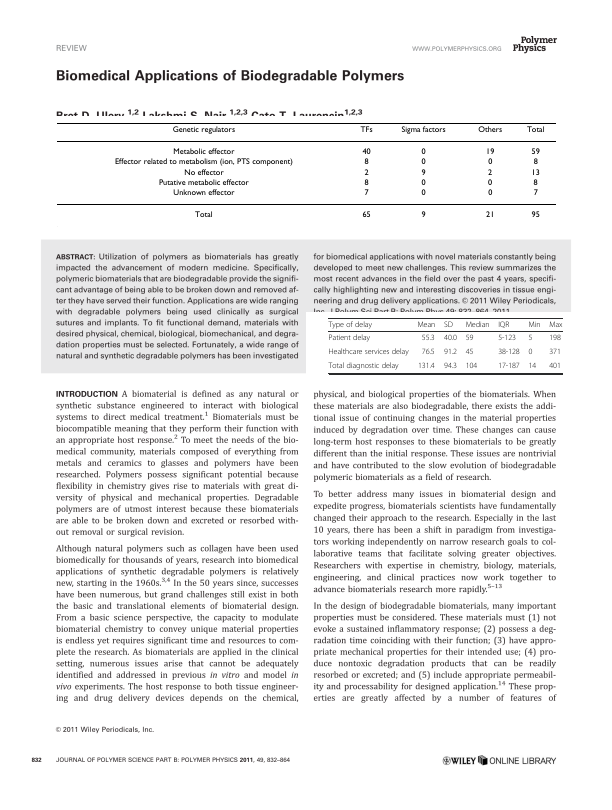borderless: (55, 121, 557, 228), (327, 317, 562, 373)
cell: (113, 158, 293, 168), (157, 178, 249, 188), (328, 348, 410, 358), (328, 362, 400, 372), (171, 125, 236, 135), (172, 148, 235, 157), (172, 189, 235, 198), (400, 125, 446, 135), (328, 334, 371, 344), (183, 168, 224, 178), (328, 321, 373, 330), (477, 125, 503, 135), (497, 348, 521, 358), (497, 362, 521, 372), (465, 321, 490, 330), (525, 125, 545, 135), (497, 334, 517, 344), (194, 211, 213, 221), (417, 362, 436, 372), (416, 321, 436, 330), (421, 334, 436, 344), (443, 334, 458, 344), (421, 348, 436, 358), (443, 348, 458, 358), (443, 362, 458, 372), (359, 125, 373, 135), (548, 334, 562, 344), (548, 348, 562, 358), (548, 362, 562, 372), (548, 321, 563, 330), (465, 362, 478, 372), (527, 321, 541, 330), (497, 321, 510, 330), (530, 168, 540, 178), (361, 211, 371, 221), (485, 211, 495, 221), (530, 211, 540, 221), (527, 362, 537, 372), (443, 321, 454, 330), (361, 148, 371, 157), (485, 148, 495, 157), (530, 148, 540, 157), (465, 334, 474, 344), (465, 348, 474, 358), (363, 158, 369, 168), (420, 158, 426, 168), (487, 158, 493, 168), (532, 158, 538, 168), (363, 168, 369, 178), (420, 168, 426, 178), (487, 168, 493, 178), (363, 178, 369, 188), (420, 178, 426, 188), (487, 178, 493, 188), (532, 178, 538, 188), (420, 211, 426, 221), (527, 334, 533, 344), (527, 348, 533, 358), (420, 148, 426, 157), (363, 189, 369, 198), (420, 189, 426, 198), (487, 189, 493, 198), (532, 189, 538, 198)
